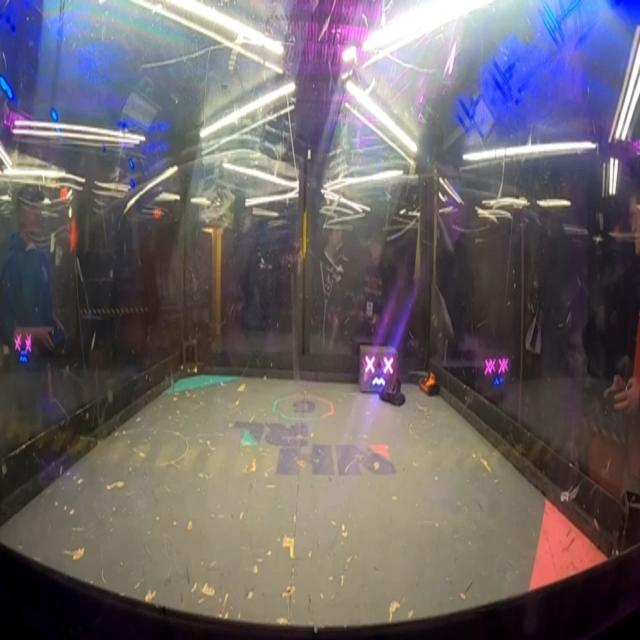brick: (359, 343, 399, 395)
